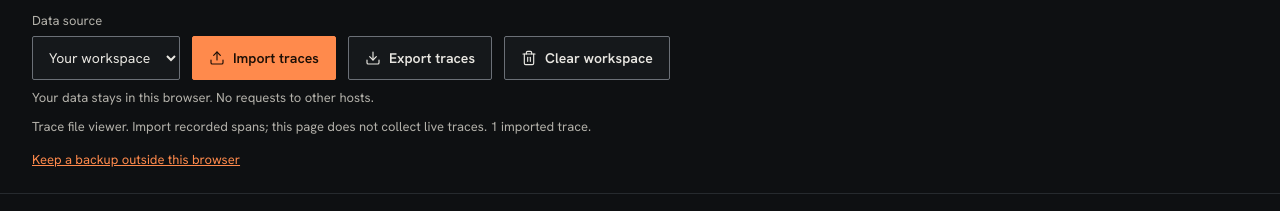
it: Local workspace controls › exports the selected imported data as a JSON backup
What coordinates should you click on to do the following:
click the button "Export traces"
I would click on:
 (420, 58)
Its box is top-left (348, 36), bottom-right (492, 80).
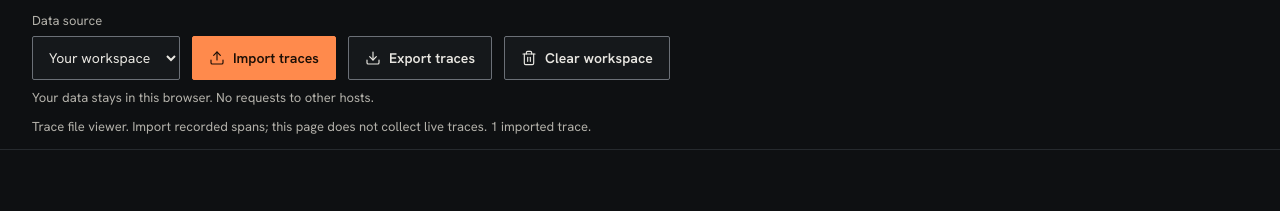
Expected: the button "Keep a backup outside this browser" is gone
